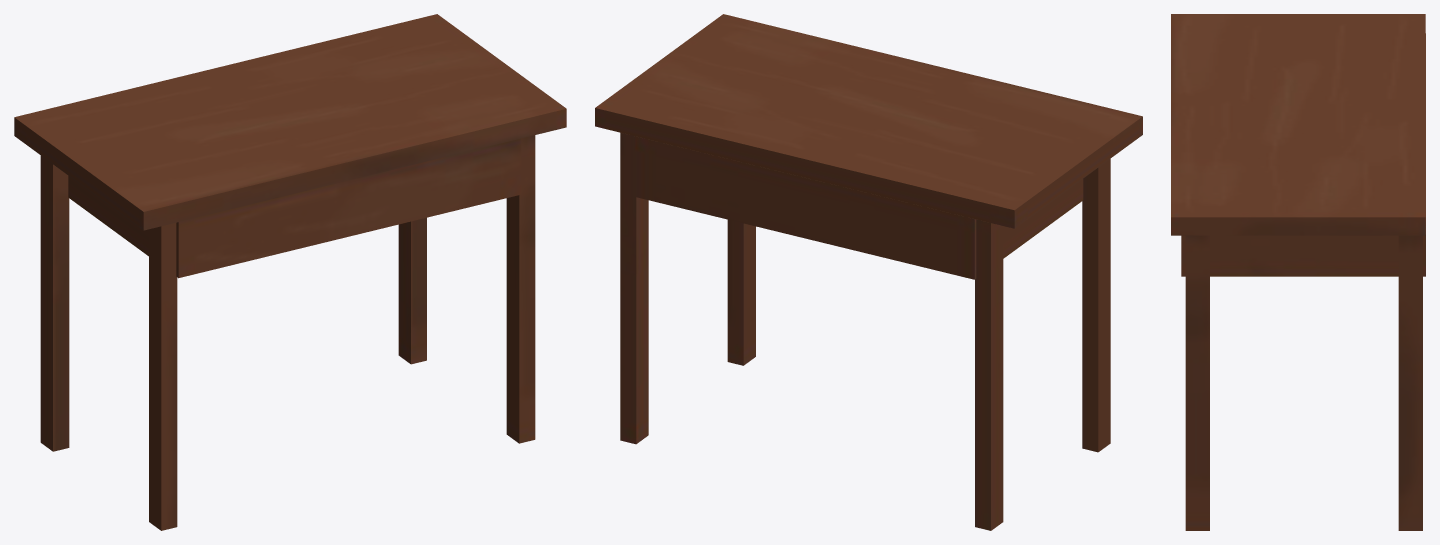
File: desk.glb
3 views of the same model, side by side, from view 1: azimuth 30°, elevation 25°; view 2: azimuth 150°, elevation 25°; view 3: azimuth 270°, elevation 25° (orthographic).
Visible parts, largest first — view 1: Cube.004; view 2: Cube.004; view 3: Cube.004.
Part boxes in pixels (box(x1,y1,x2,y2)): Cube.004: box(14, 14, 566, 530); Cube.004: box(595, 14, 1142, 530); Cube.004: box(1171, 14, 1425, 530).
Bounding box in the file's own units: 1.24 × 0.9229 × 0.6554.
1 material, 1 textured.
